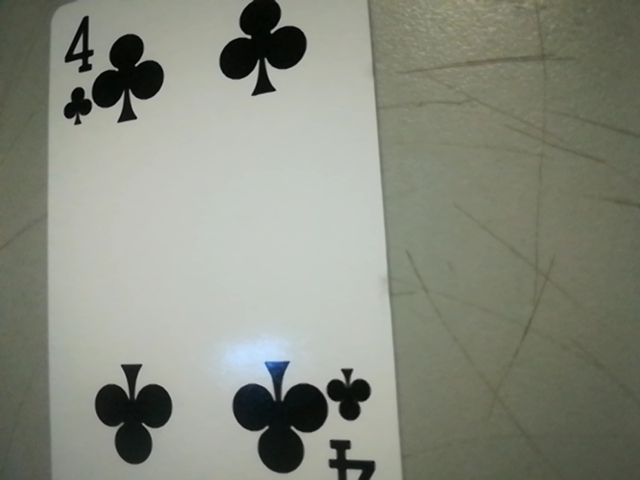mh 4: (313, 355, 395, 480)
